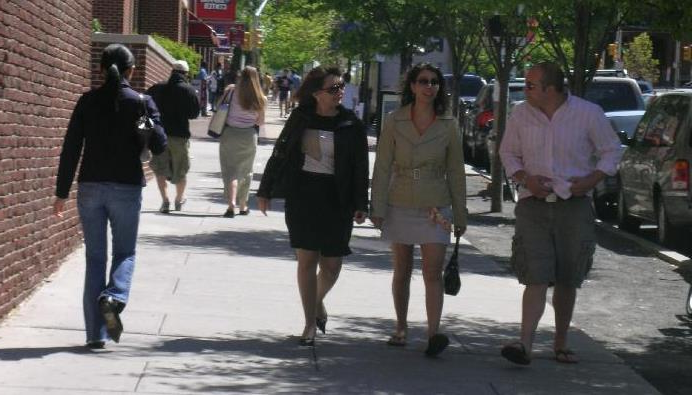pedestrian: (499, 63, 623, 365), (53, 44, 167, 348), (256, 66, 369, 347), (371, 64, 467, 360), (207, 66, 268, 217), (144, 61, 199, 214)
